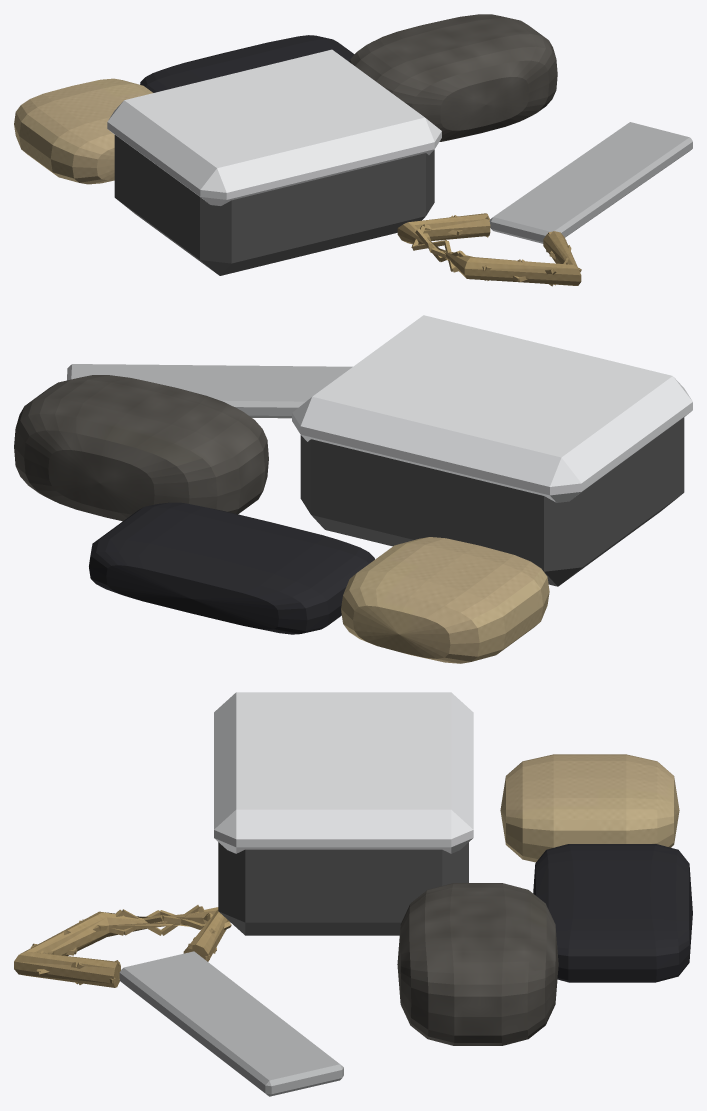
Rendered from kit_fogo.glb.
The picture shows the model from 3 angles, top to bottom: view 1: azimuth 30°, elevation 25°; view 2: azimuth 150°, elevation 25°; view 3: azimuth 270°, elevation 25°; orthographic projection. The views are drawn at different scales.
Parts seen in each view (by area): view 1: kit_fogo_lata, kit_fogo_tinta_preta, kit_fogo_pedra_escura, kit_fogo_aco_escovado, kit_fogo_trapo_bege, kit_fogo_corda, kit_fogo_carvao; view 2: kit_fogo_lata, kit_fogo_tinta_preta, kit_fogo_pedra_escura, kit_fogo_carvao, kit_fogo_trapo_bege, kit_fogo_aco_escovado; view 3: kit_fogo_lata, kit_fogo_pedra_escura, kit_fogo_carvao, kit_fogo_tinta_preta, kit_fogo_trapo_bege, kit_fogo_aco_escovado, kit_fogo_corda.
Boxes of the visible parts, x1,y1,x2,y2 form: kit_fogo_lata: [107, 49, 441, 205]; kit_fogo_tinta_preta: [114, 135, 434, 275]; kit_fogo_pedra_escura: [349, 14, 557, 141]; kit_fogo_aco_escovado: [489, 122, 692, 243]; kit_fogo_trapo_bege: [14, 78, 152, 184]; kit_fogo_corda: [397, 213, 581, 286]; kit_fogo_carvao: [140, 35, 354, 92]; kit_fogo_lata: [292, 315, 692, 502]; kit_fogo_tinta_preta: [300, 417, 684, 586]; kit_fogo_pedra_escura: [14, 375, 268, 521]; kit_fogo_carvao: [89, 502, 374, 634]; kit_fogo_trapo_bege: [341, 537, 549, 663]; kit_fogo_aco_escovado: [67, 364, 352, 418]; kit_fogo_lata: [214, 692, 473, 853]; kit_fogo_pedra_escura: [397, 883, 558, 1045]; kit_fogo_carvao: [533, 844, 692, 982]; kit_fogo_tinta_preta: [218, 842, 468, 935]; kit_fogo_trapo_bege: [500, 754, 679, 862]; kit_fogo_aco_escovado: [119, 951, 343, 1096]; kit_fogo_corda: [14, 905, 231, 987].
Bounding box in the file's own units: 0.1547 × 0.0333 × 0.1516.
7 materials, 3 textured.
